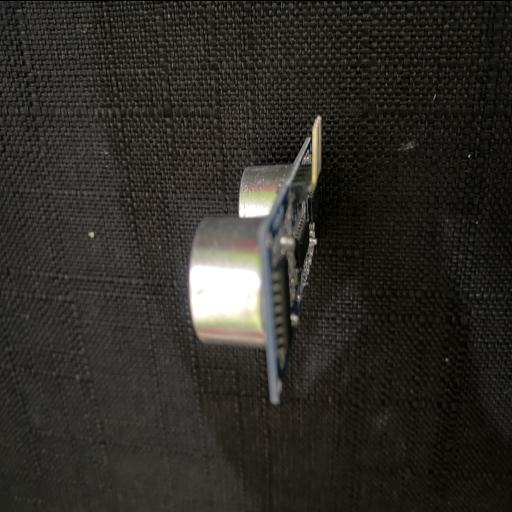Ultrasonic Sensor: (187, 112, 323, 406)
